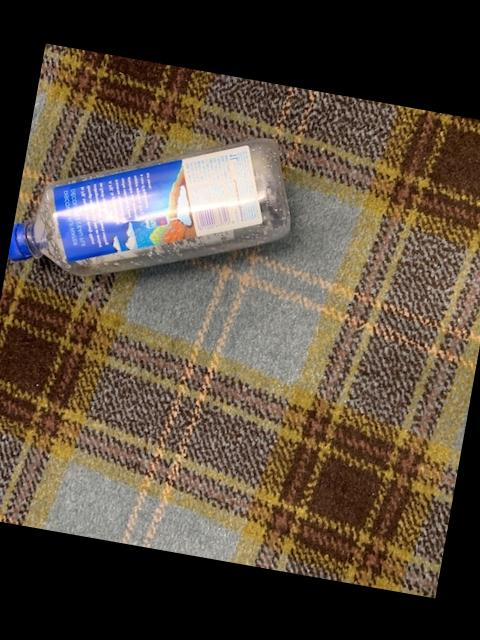plastic: (8, 136, 288, 272)
